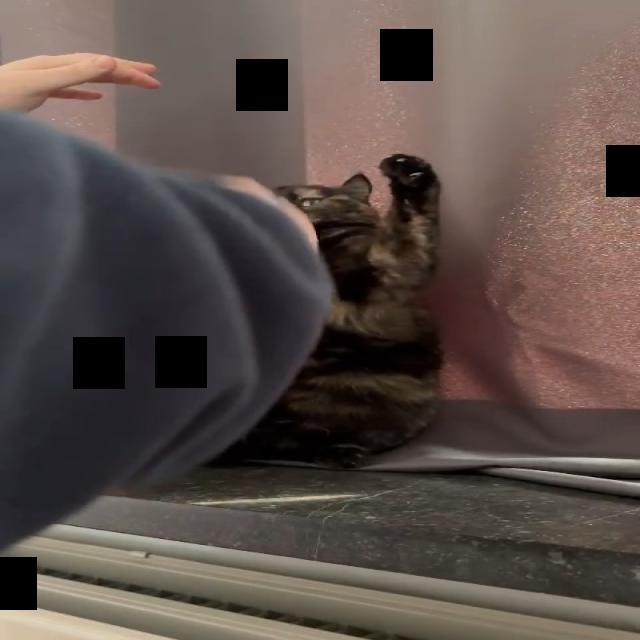authorized: (211, 153, 445, 470)
